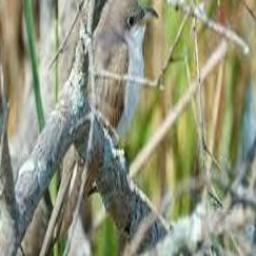Cuckoo: (42, 0, 159, 253)
